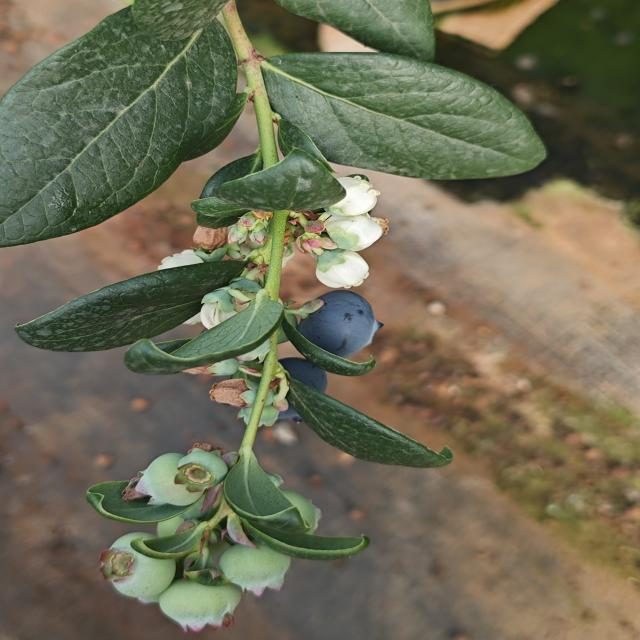ripe: (298, 279, 390, 355), (238, 352, 334, 421)
